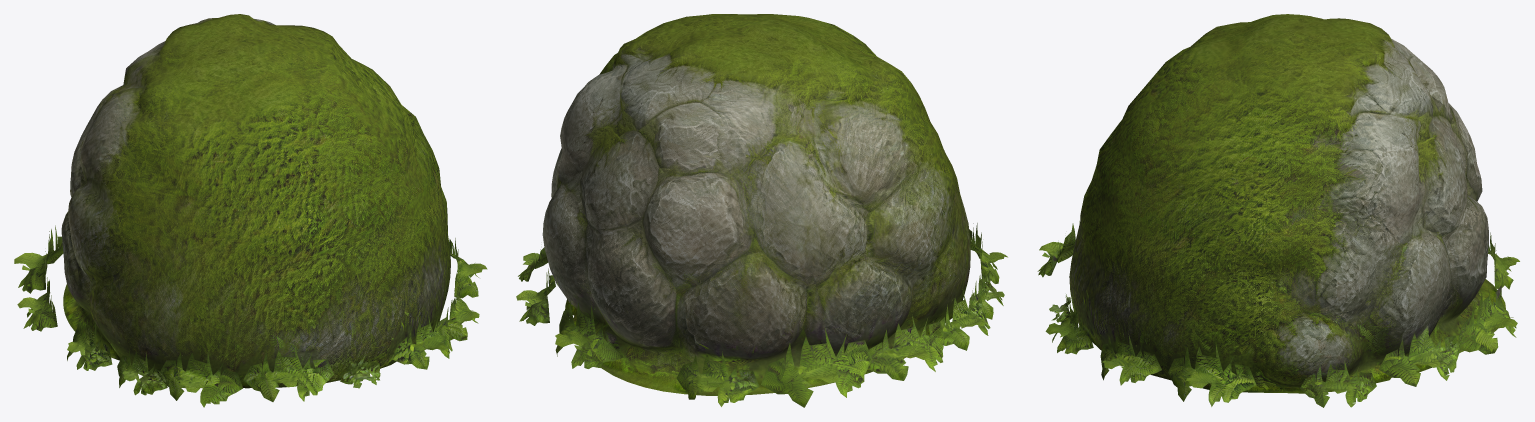
Rendered from SM_Env_SherwoodMossyBoulder.fbx.
3 views of the same model, side by side, from view 1: azimuth 30°, elevation 25°; view 2: azimuth 150°, elevation 25°; view 3: azimuth 270°, elevation 25° (orthographic). The views are drawn at different scales.
Parts seen in each view (by area): view 1: SM_Env_SherwoodMossyBoulder; view 2: SM_Env_SherwoodMossyBoulder; view 3: SM_Env_SherwoodMossyBoulder.
Boxes of the visible parts, box(x1,y1,x2,y2) form: SM_Env_SherwoodMossyBoulder: box(14, 14, 487, 407); SM_Env_SherwoodMossyBoulder: box(516, 14, 1007, 407); SM_Env_SherwoodMossyBoulder: box(1037, 14, 1519, 407).
Bounding box in the file's own units: 60.39 × 60.39 × 39.
Materials: 1 (1 with a texture image).
